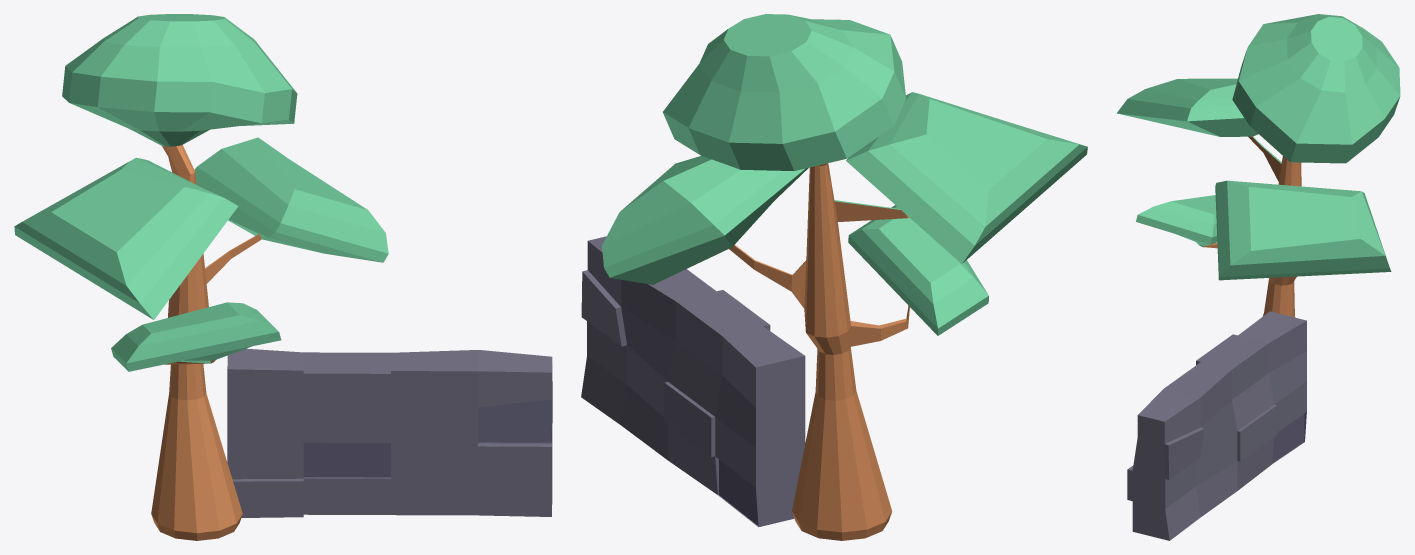
Rendered from trees.glb.
3 views of the same model, side by side, from view 1: azimuth 30°, elevation 25°; view 2: azimuth 150°, elevation 25°; view 3: azimuth 270°, elevation 25° (orthographic). The views are drawn at different scales.
Parts seen in each view (by area): view 1: Cone.001, muro.001; view 2: Cone.001, muro.001; view 3: Cone.001, muro.001.
Boxes of the visible parts, x1,y1,x2,y2 form: Cone.001: [14, 14, 388, 540]; muro.001: [227, 348, 552, 517]; Cone.001: [602, 14, 1087, 540]; muro.001: [581, 236, 805, 527]; Cone.001: [1117, 14, 1400, 317]; muro.001: [1127, 311, 1306, 540].
Size of the model in its own units: 10.18 by 10.39 by 6.68.
